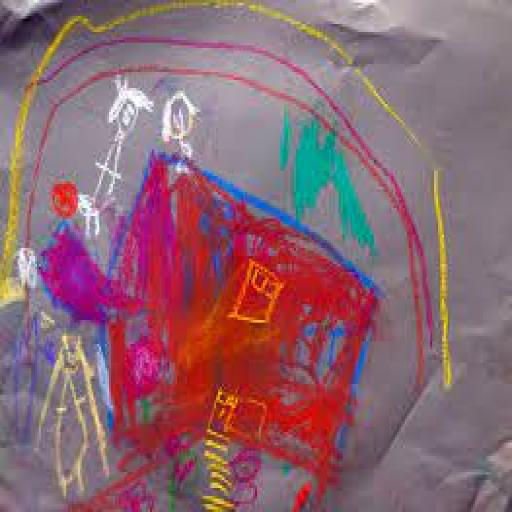person: (76, 65, 156, 238), (157, 76, 200, 180)
